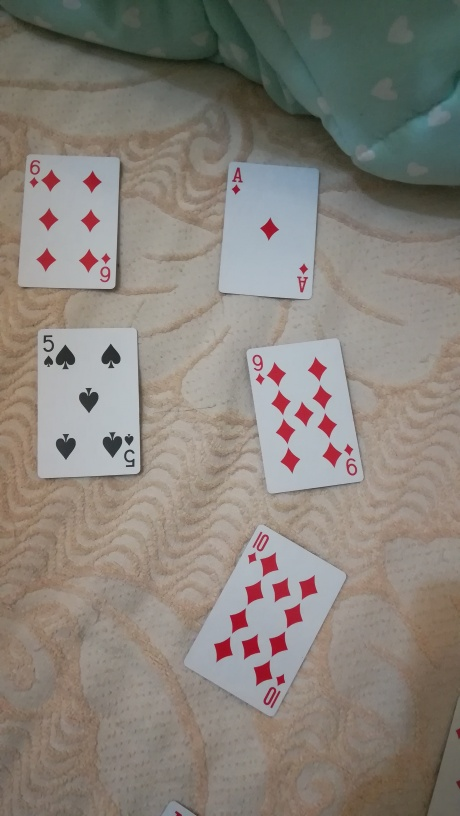fk 10: (182, 521, 346, 722)
fk 6: (9, 149, 130, 297)
fk 9: (237, 336, 371, 492)
fk a: (219, 159, 323, 302)
ht 5: (26, 322, 149, 490)
